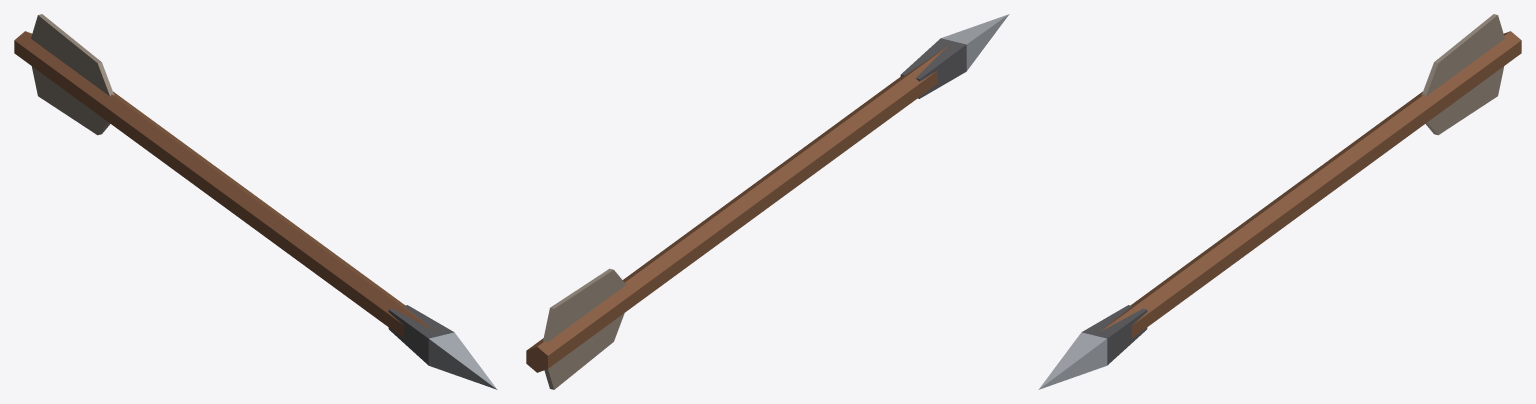
File: bolt.glb
3 views of the same model, side by side, from view 1: azimuth 30°, elevation 25°; view 2: azimuth 150°, elevation 25°; view 3: azimuth 330°, elevation 25° (orthographic).
Visible parts, largest first — view 1: bolt; view 2: bolt; view 3: bolt.
Part boxes in pixels (<box>): bolt: <box>14,14,497,389</box>; bolt: <box>526,14,1009,389</box>; bolt: <box>1038,14,1521,389</box>.
Bounding box in the file's own units: 0.012 × 0.036 × 0.38.
